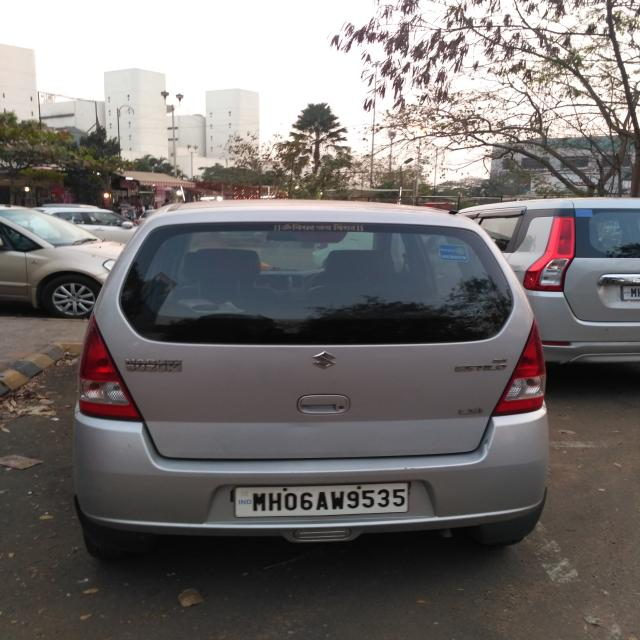Number-Plate: (229, 482, 409, 516), (622, 279, 640, 306)
